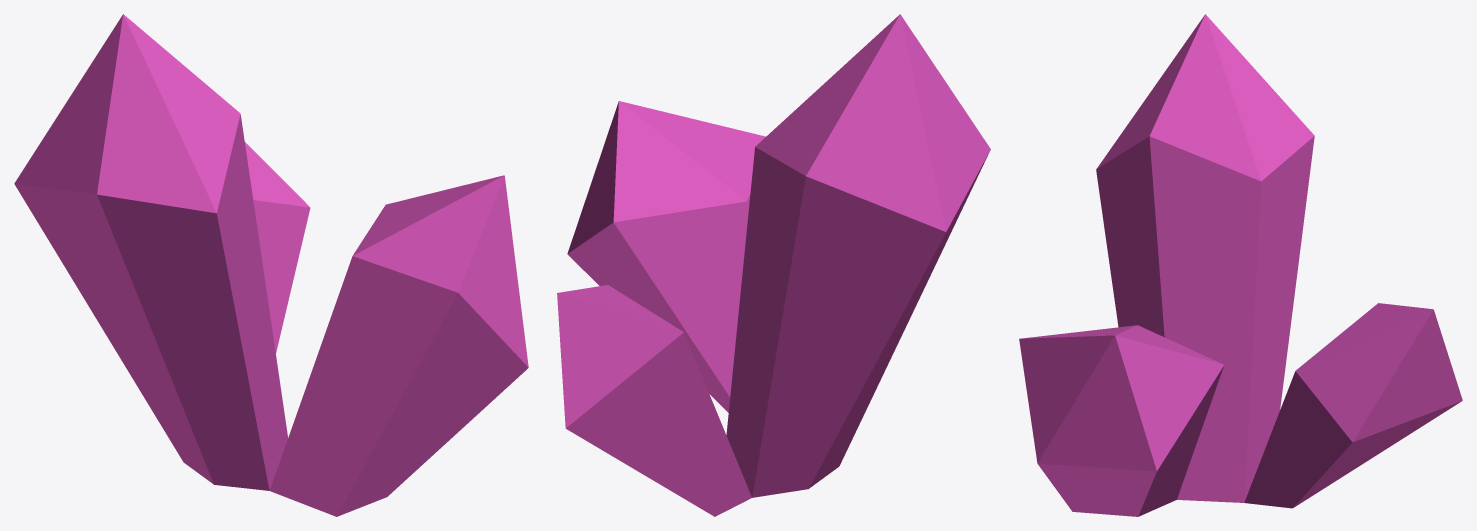
Rendered from Crystal-B01.fbx.
3 views of the same model, side by side, from view 1: azimuth 30°, elevation 25°; view 2: azimuth 150°, elevation 25°; view 3: azimuth 270°, elevation 25° (orthographic). The views are drawn at different scales.
Parts seen in each view (by area): view 1: Crystal-B01; view 2: Crystal-B01; view 3: Crystal-B01.
Part boxes in pixels (x1=…): Crystal-B01: x1=14, y1=14, x2=528, y2=516; Crystal-B01: x1=557, y1=14, x2=990, y2=516; Crystal-B01: x1=1019, y1=14, x2=1462, y2=516.
Size of the model in its own units: 76.35 by 80.94 by 76.69.
